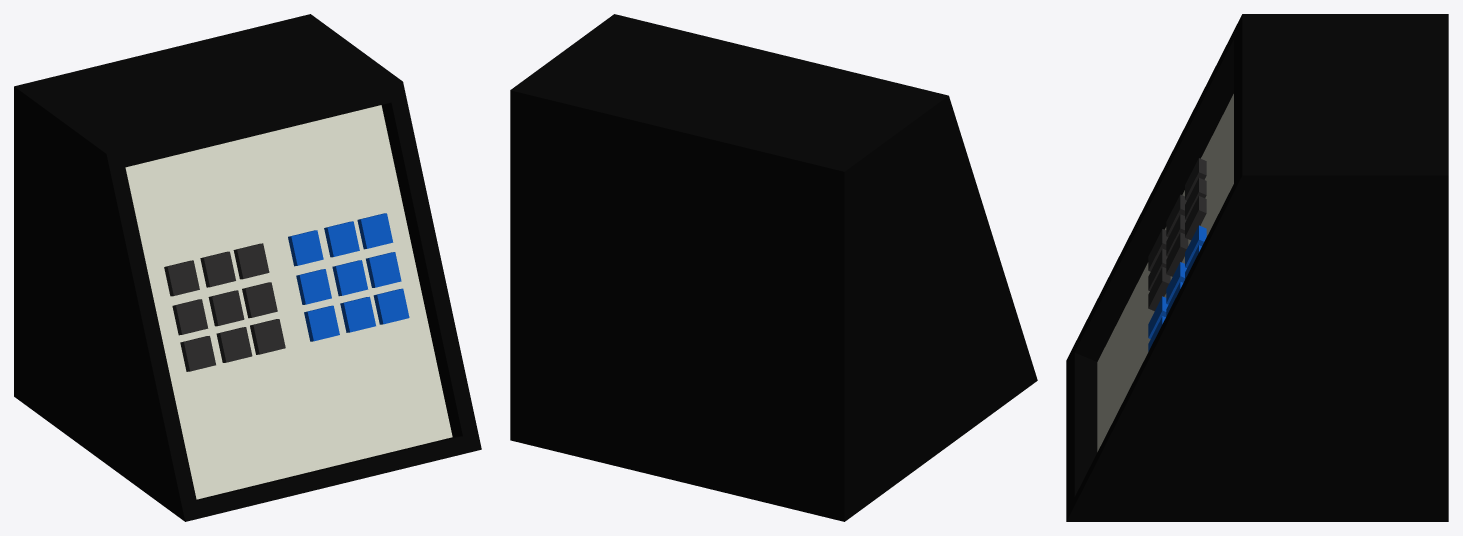
Rendered from StartReactor.fbx.
3 views of the same model, side by side, from view 1: azimuth 30°, elevation 25°; view 2: azimuth 150°, elevation 25°; view 3: azimuth 270°, elevation 25° (orthographic). The views are drawn at different scales.
Visible parts, largest first — view 1: StartReactor; view 2: StartReactor; view 3: StartReactor.
Part boxes in pixels (x1,y1,x2,y2): StartReactor: (14,14,481,521); StartReactor: (510,14,1037,521); StartReactor: (1066,14,1448,521).
Bounding box in the file's own units: 200 × 200 × 200.
